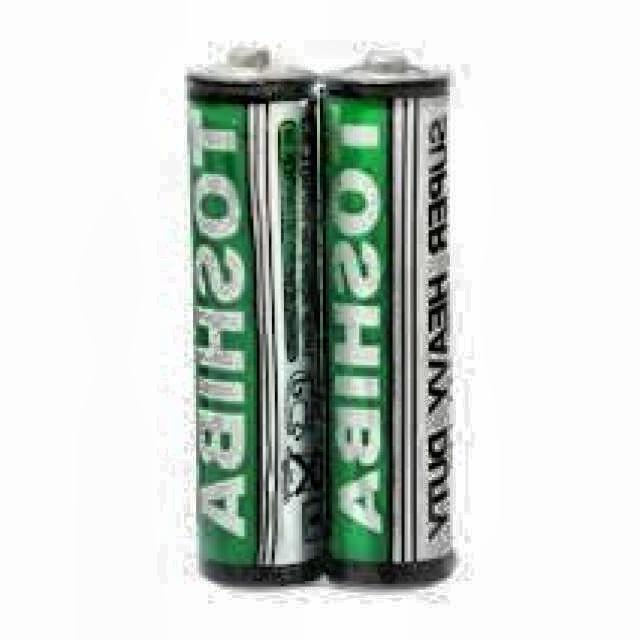battery: (190, 48, 453, 581)
